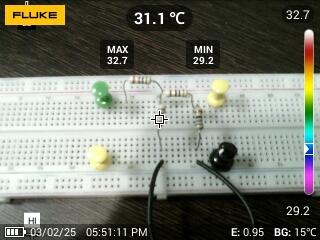resistor: (192, 106, 206, 133), (154, 103, 166, 129), (128, 73, 152, 85), (163, 89, 190, 98)
